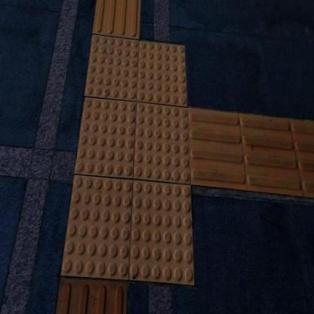Podoctatil: (50, 17, 227, 303), (191, 104, 314, 188), (55, 276, 126, 314), (94, 0, 143, 39)
